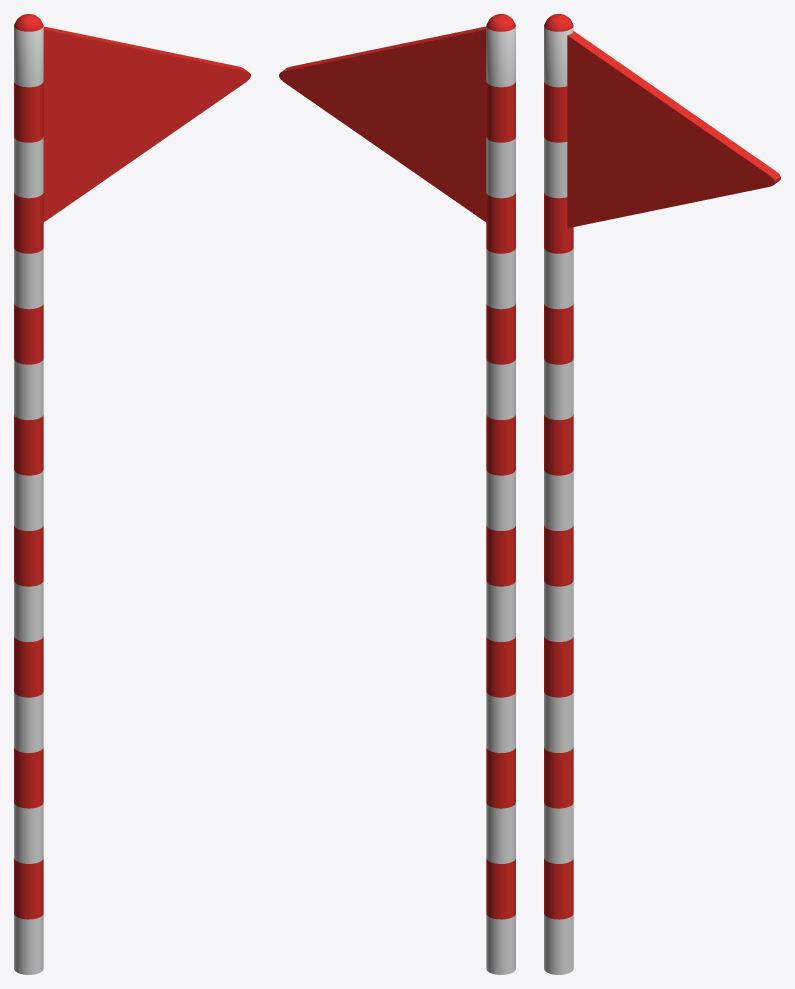
File: Bandera.fbx
The picture shows the model from 3 angles, left to right: view 1: azimuth 30°, elevation 25°; view 2: azimuth 150°, elevation 25°; view 3: azimuth 330°, elevation 25°; orthographic projection.
Visible parts, largest first — view 1: Bandera; view 2: Bandera; view 3: Bandera.
Part boxes in pixels (bbox=[...]): Bandera: bbox=[14, 14, 250, 974]; Bandera: bbox=[279, 14, 515, 974]; Bandera: bbox=[544, 14, 780, 974].
Bounding box in the file's own units: 17.51 × 68.83 × 1.93.
